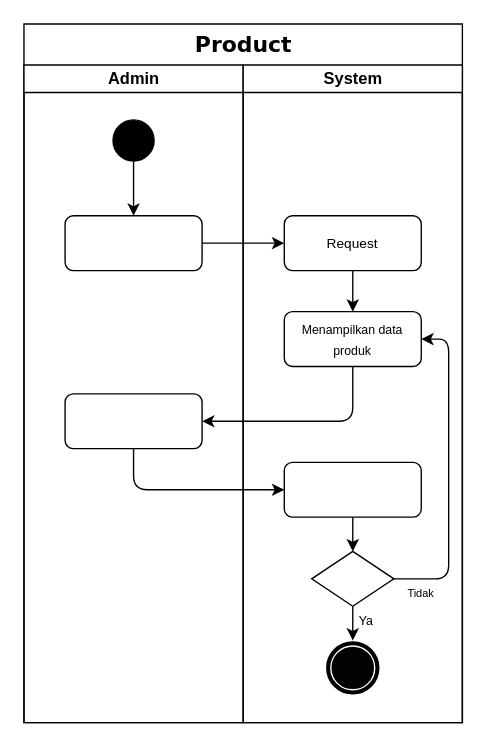
Image size: 486x747. Some labels were removed from this diagram. Here are the shapes that lost their labels. From the top down, the centre of each, then its label:
At (x=133, y=242): "Masuk ke menu produk".
At (x=133, y=421): "Menambah,hapus dan ubah produk".
At (x=352, y=489): "Menyimpan data produk".
